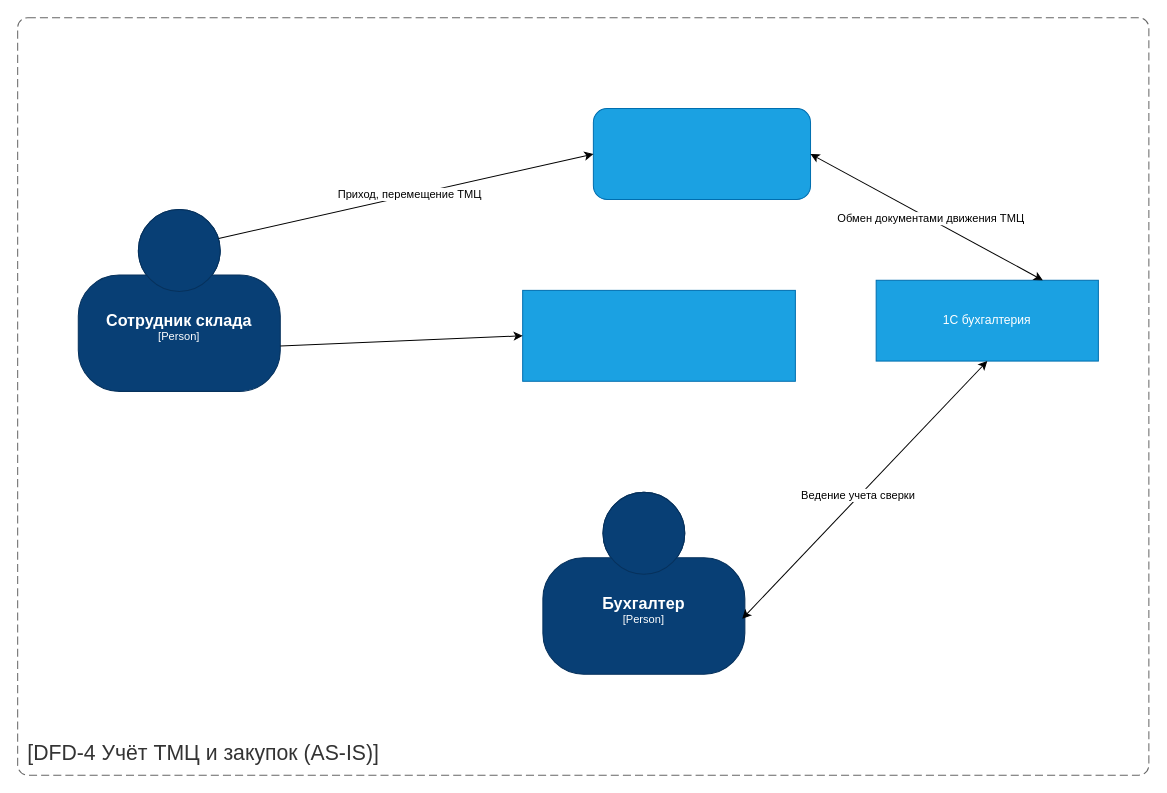
This 1167x793 diagram has some shape labels left out. Each missing label, with the centre of its shape:
"1С Склад" goes at pixel 701 153.
"Общая файловая шара" goes at pixel 658 335.
